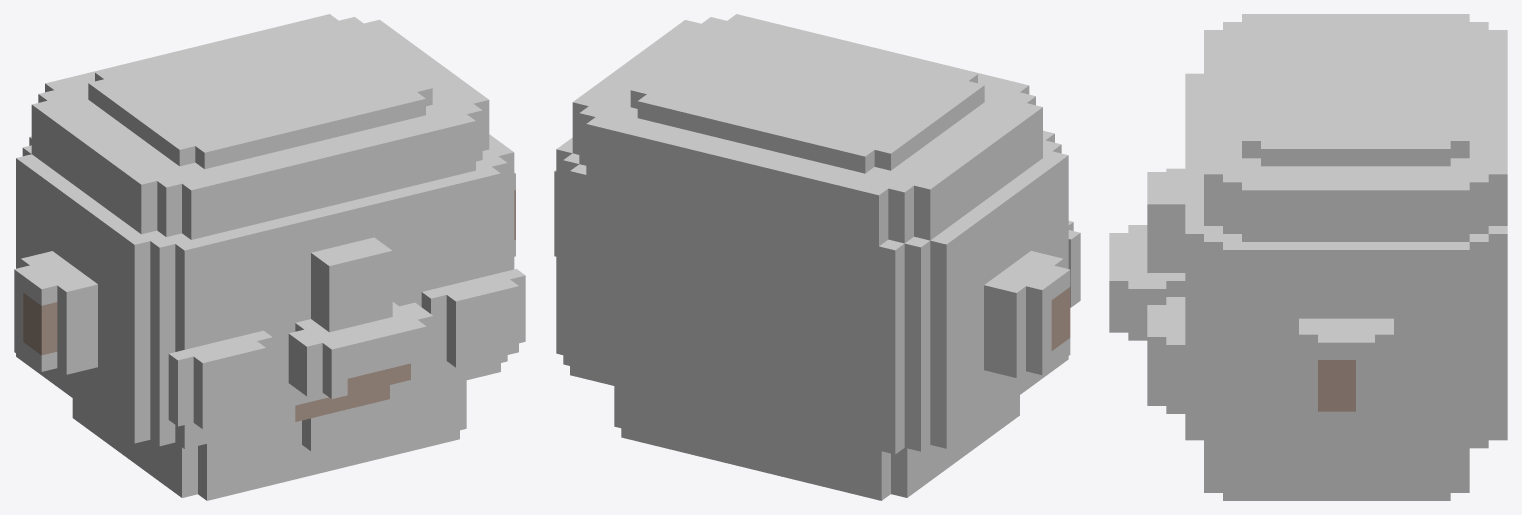
File: head_adult.glb
The picture shows the model from 3 angles, left to right: view 1: azimuth 30°, elevation 25°; view 2: azimuth 150°, elevation 25°; view 3: azimuth 270°, elevation 25°; orthographic projection. The views are drawn at different scales.
Parts seen in each view (by area): view 1: VoxelVisual; view 2: VoxelVisual; view 3: VoxelVisual.
Boxes of the visible parts, <box> form: VoxelVisual: <box>14,14,525,500</box>; VoxelVisual: <box>554,14,1080,500</box>; VoxelVisual: <box>1109,14,1507,500</box>.
Size of what is drawn, in the model's own units: 1.88 by 1.25 by 1.31.
